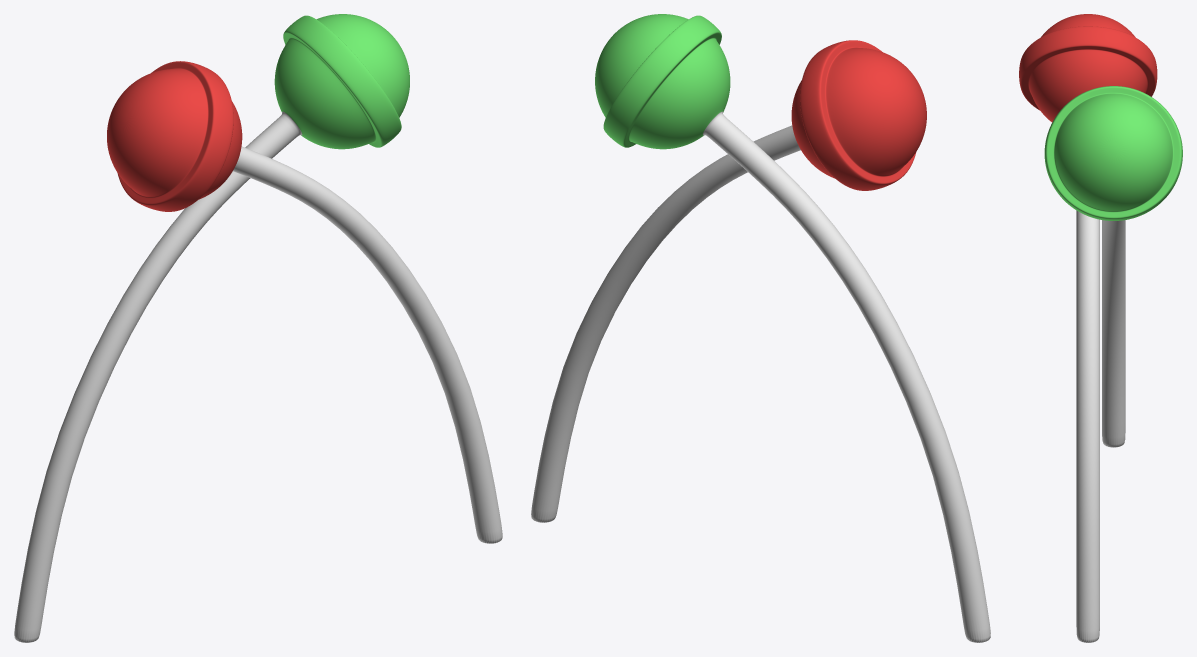
Rendered from Portal_PirulitoDoce.fbx.
3 views of the same model, side by side, from view 1: azimuth 30°, elevation 25°; view 2: azimuth 150°, elevation 25°; view 3: azimuth 270°, elevation 25° (orthographic). The views are drawn at different scales.
Visible parts, largest first — view 1: Sphere.001, Sphere; view 2: Sphere.001, Sphere; view 3: Sphere.001, Sphere.
Boxes of the visible parts, box(x1,y1,x2,y2) form: Sphere.001: box(14, 14, 409, 642); Sphere: box(107, 61, 502, 543); Sphere.001: box(595, 14, 990, 642); Sphere: box(531, 40, 926, 522); Sphere.001: box(1044, 86, 1182, 447); Sphere: box(1019, 14, 1157, 642).
Size of the model in its own units: 795 by 880 by 269.
